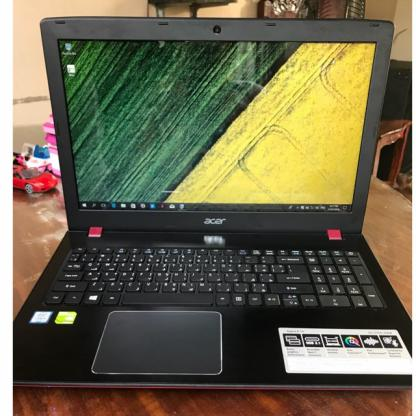Normal: (42, 25, 394, 237)
